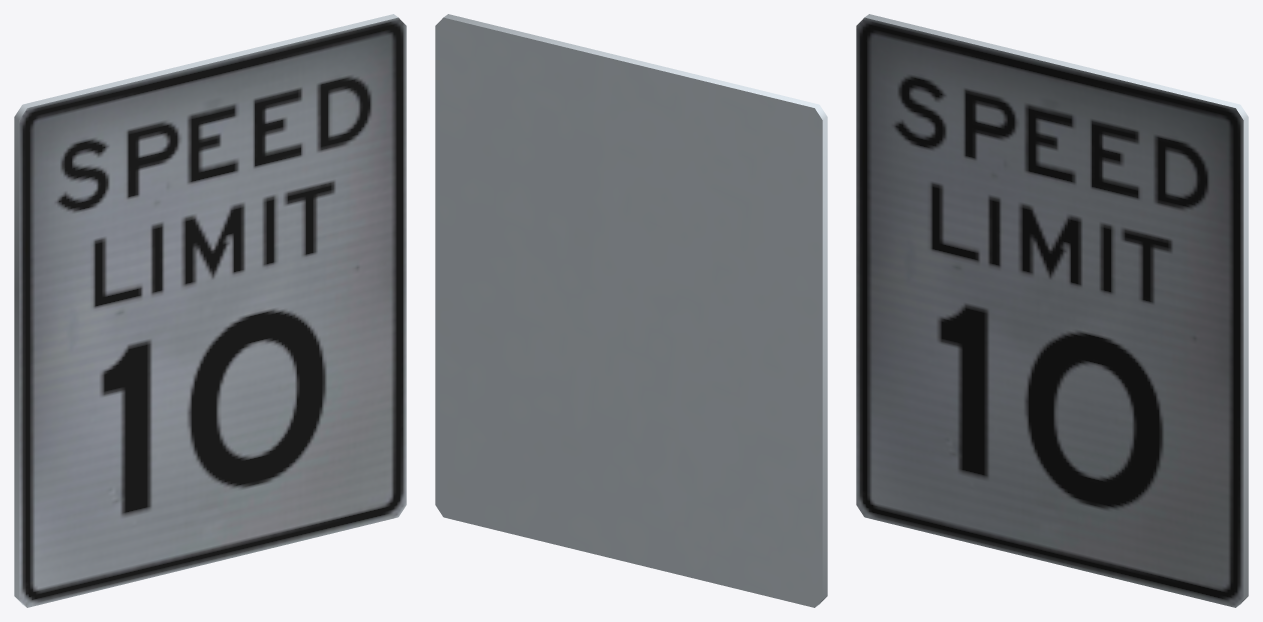
Rendered from SIgnBoard_14.fbx.
The picture shows the model from 3 angles, left to right: view 1: azimuth 30°, elevation 25°; view 2: azimuth 150°, elevation 25°; view 3: azimuth 330°, elevation 25°; orthographic projection.
Visible parts, largest first — view 1: SIgnBoard_14; view 2: SIgnBoard_14; view 3: SIgnBoard_14.
Part boxes in pixels (x1,y1,x2,y2): SIgnBoard_14: [14, 14, 406, 607]; SIgnBoard_14: [435, 14, 827, 607]; SIgnBoard_14: [856, 14, 1248, 607].
Bounding box in the file's own units: 1.18 × 1.45 × 0.0255.
